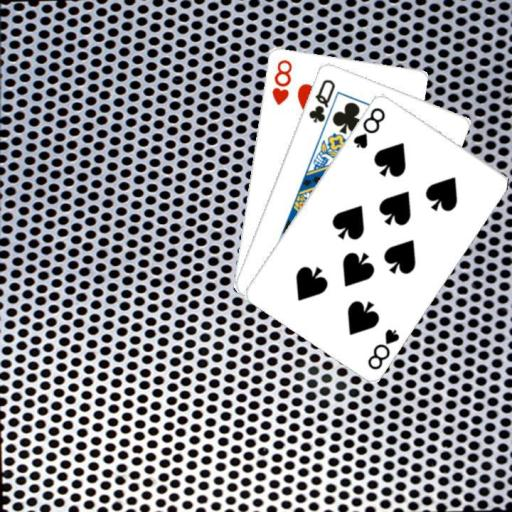8H: (268, 56, 294, 107)
8S: (349, 103, 387, 150), (364, 325, 401, 371)
QC: (305, 76, 336, 125)
